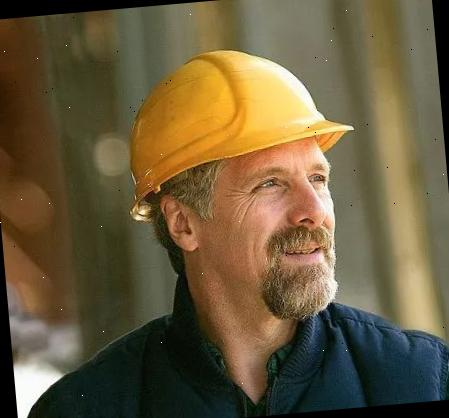helmet: (107, 32, 358, 223)
